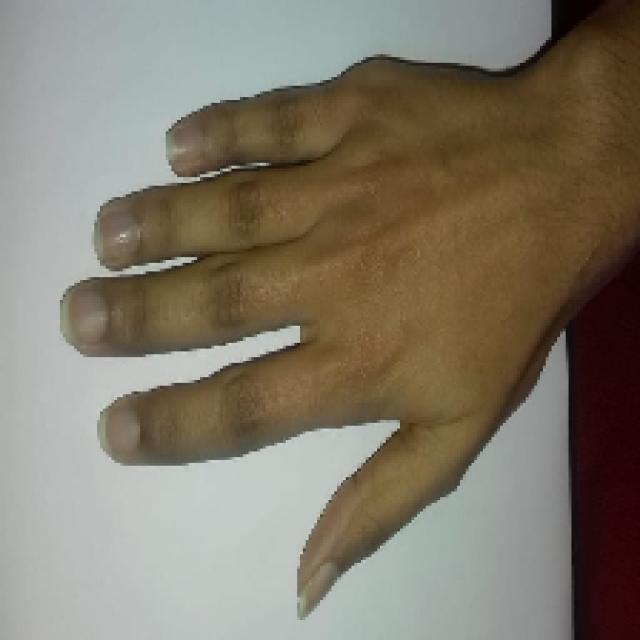Nail: (61, 285, 109, 345), (95, 212, 141, 266), (98, 404, 140, 459), (298, 564, 340, 618), (166, 126, 204, 174)
